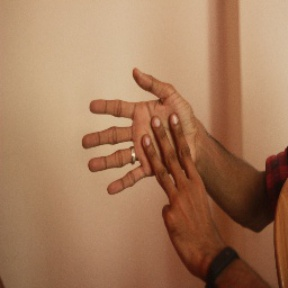M: (83, 64, 208, 222)
